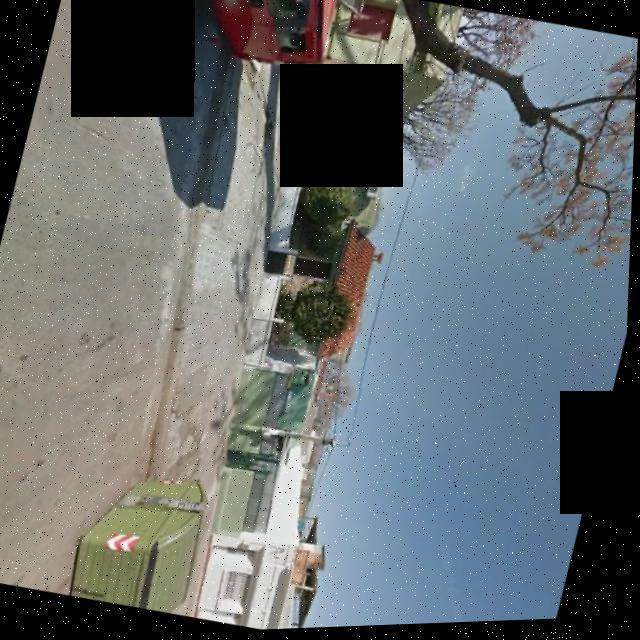bin: (52, 444, 234, 623)
